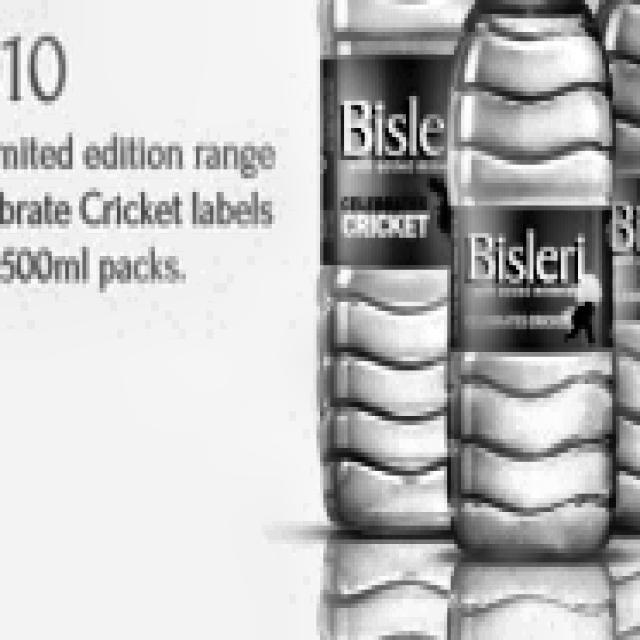bottle: (320, 0, 482, 613), (447, 0, 616, 562)
